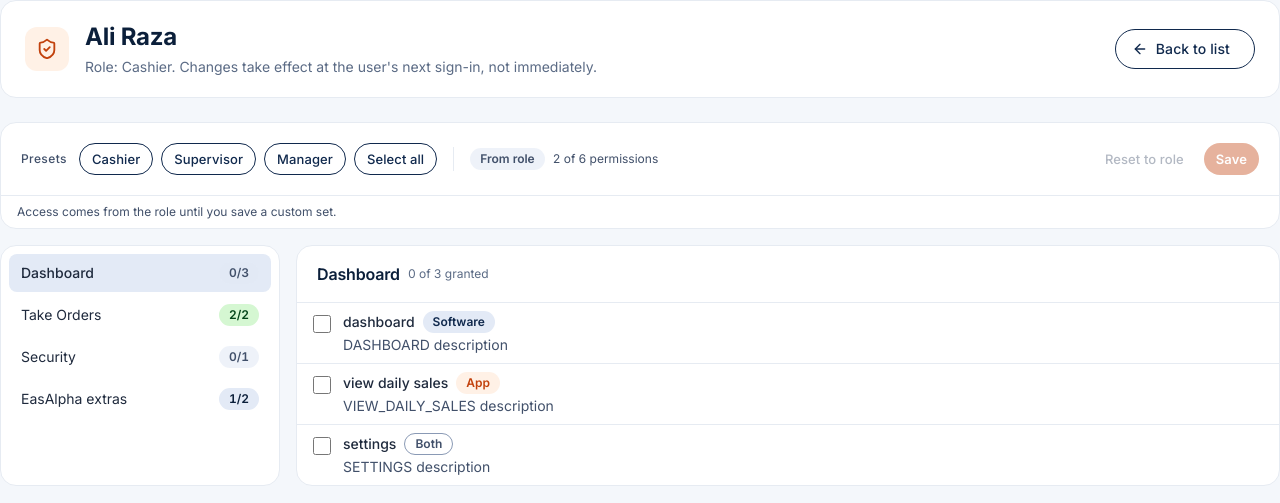
Test case: PermissionEditor › applies a preset, enables Save, PUTs the codes and shows the custom mode
Expected: the heading "Ali Raza" is shown, [85,21,177,53]
Click the button "Supervisor".
click(209, 159)  # box [161,143,256,175]
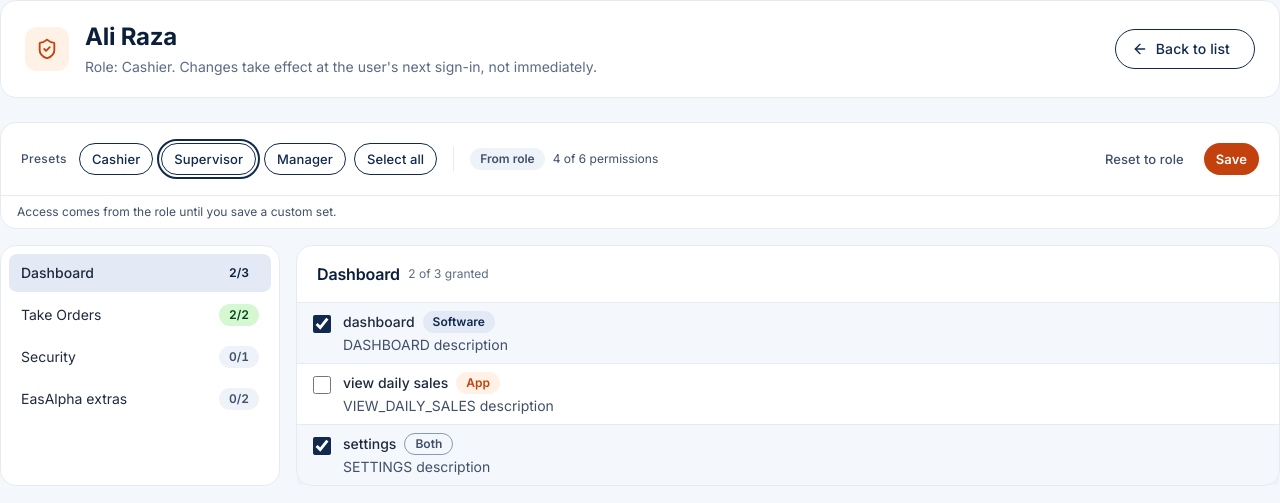
Now the text "2/3" is shown, box [219,262,259,284]
Now the button "0/3" is gone
Now the button "Save" is enabled
Click the button "Save".
click(1231, 159)  # box [1204,143,1259,175]
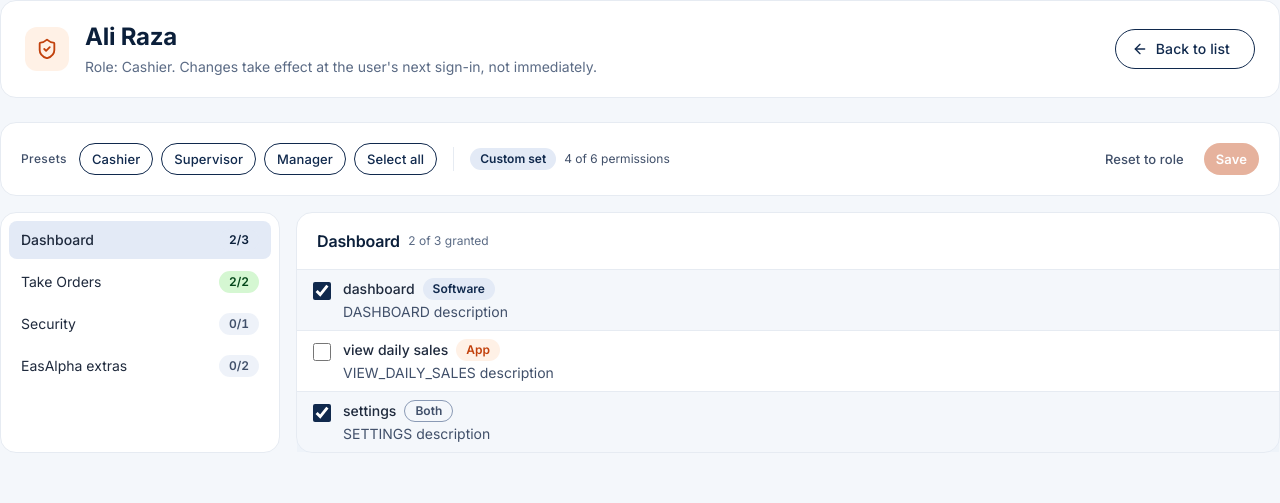
Now the text "Custom set" is shown, box [470,148,556,170]
Now the button "Save" is disabled, box [1204,143,1259,175]
